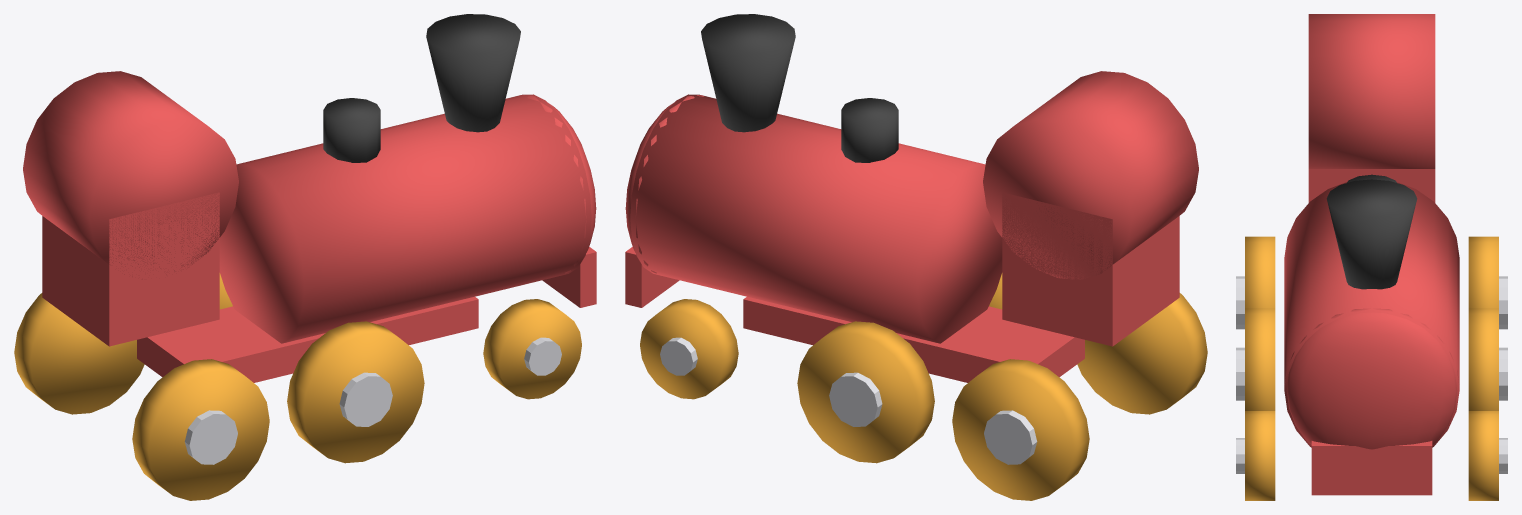
Rendered from tren.glb.
The picture shows the model from 3 angles, left to right: view 1: azimuth 30°, elevation 25°; view 2: azimuth 150°, elevation 25°; view 3: azimuth 270°, elevation 25°; orthographic projection. The views are drawn at different scales.
Visible parts, largest first — view 1: Tren; view 2: Tren; view 3: Tren.
Part boxes in pixels (x1,y1,x2,y2): Tren: (14, 14, 596, 500); Tren: (625, 14, 1207, 500); Tren: (1236, 14, 1507, 500).
Bounding box in the file's own units: 0.95 × 0.6262 × 0.4582.
